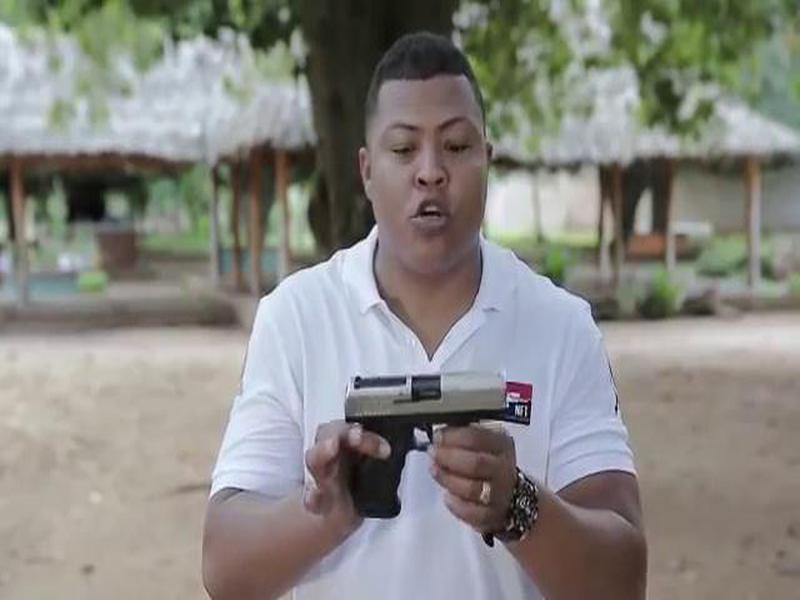Pistola: (337, 359, 526, 524)
